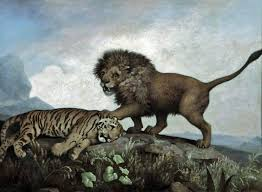lion: (90, 45, 262, 117)
tiger: (1, 109, 132, 157)
